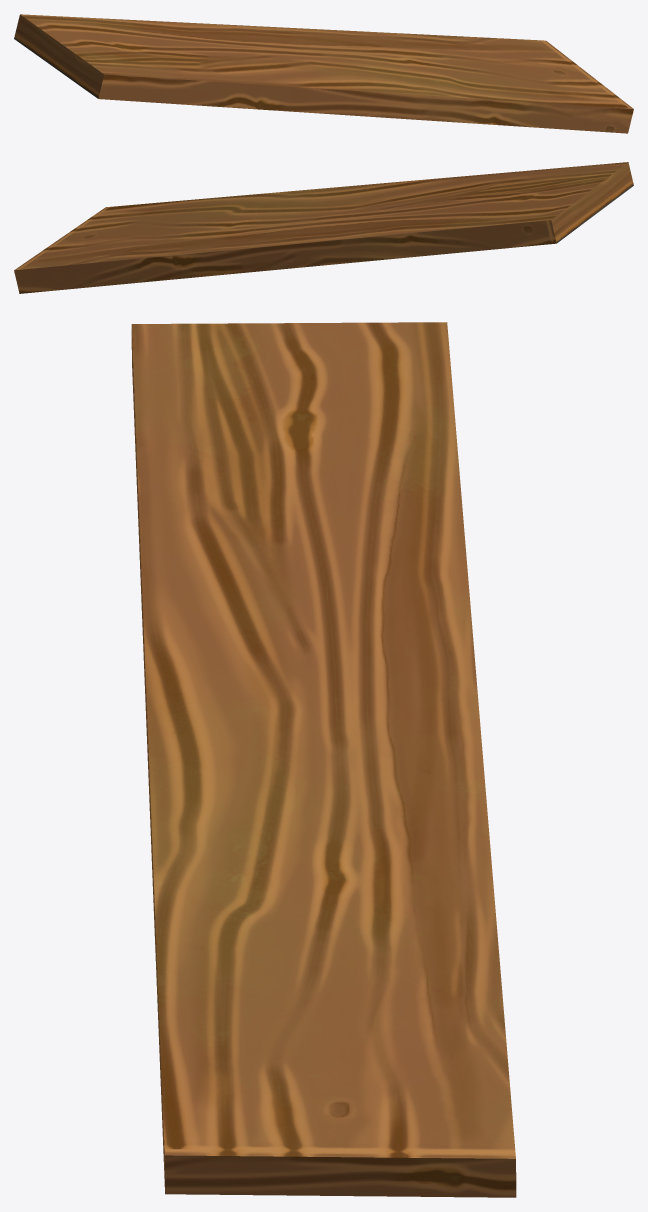
3 renders of one model, top to bottom at view 1: azimuth 30°, elevation 25°; view 2: azimuth 150°, elevation 25°; view 3: azimuth 270°, elevation 25°, orthographic. The views are drawn at different scales.
Parts seen in each view (by area): view 1: Cube.1168; view 2: Cube.1168; view 3: Cube.1168.
Boxes of the visible parts, x1,y1,x2,y2 form: Cube.1168: [14, 14, 633, 133]; Cube.1168: [14, 162, 633, 293]; Cube.1168: [131, 322, 516, 1197].
Bounding box in the file's own units: 239 × 81.15 × 75.7.
Materials: 1 (1 with a texture image).
